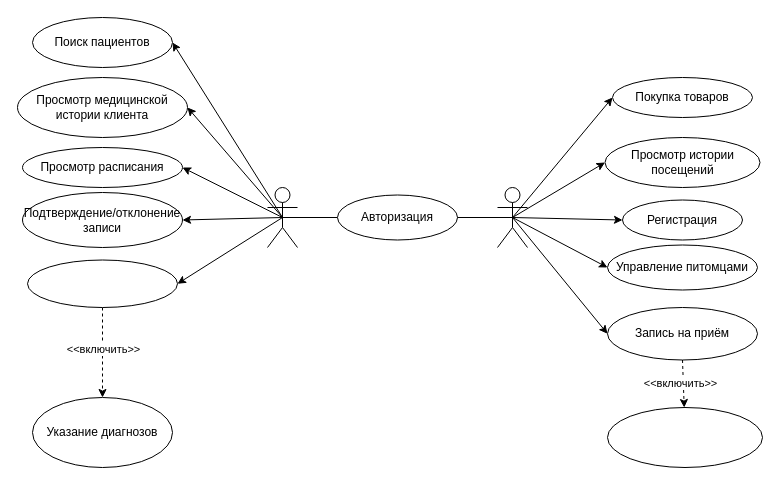
Image size: 780x485. Some labels were removed from this diagram. Here are the shapes that lost their labels. From the top down, the centre of each, then its label:
At point 282,217: "Врач".
At point 512,217: "Клиент".
At point 102,283: "Завершение приёма".
At point 684,437: "Просмотр занятых слотов".
